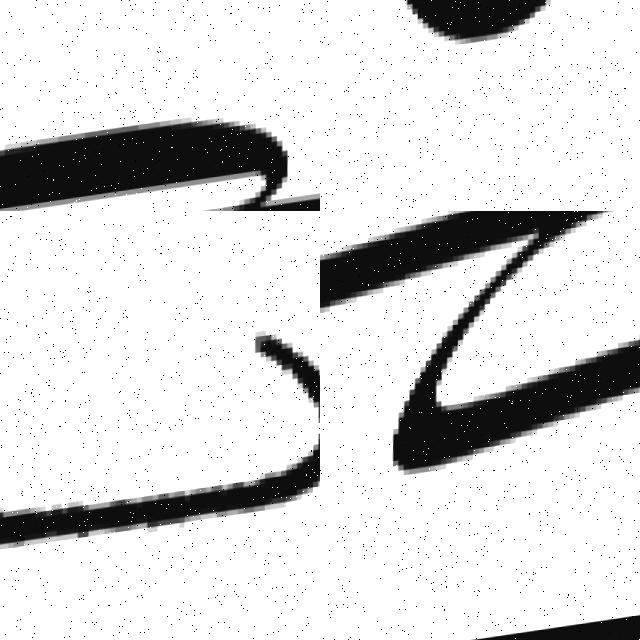G: (320, 0, 640, 210)
H: (320, 211, 640, 476)
J: (0, 318, 320, 606)
Q: (0, 83, 320, 211)
